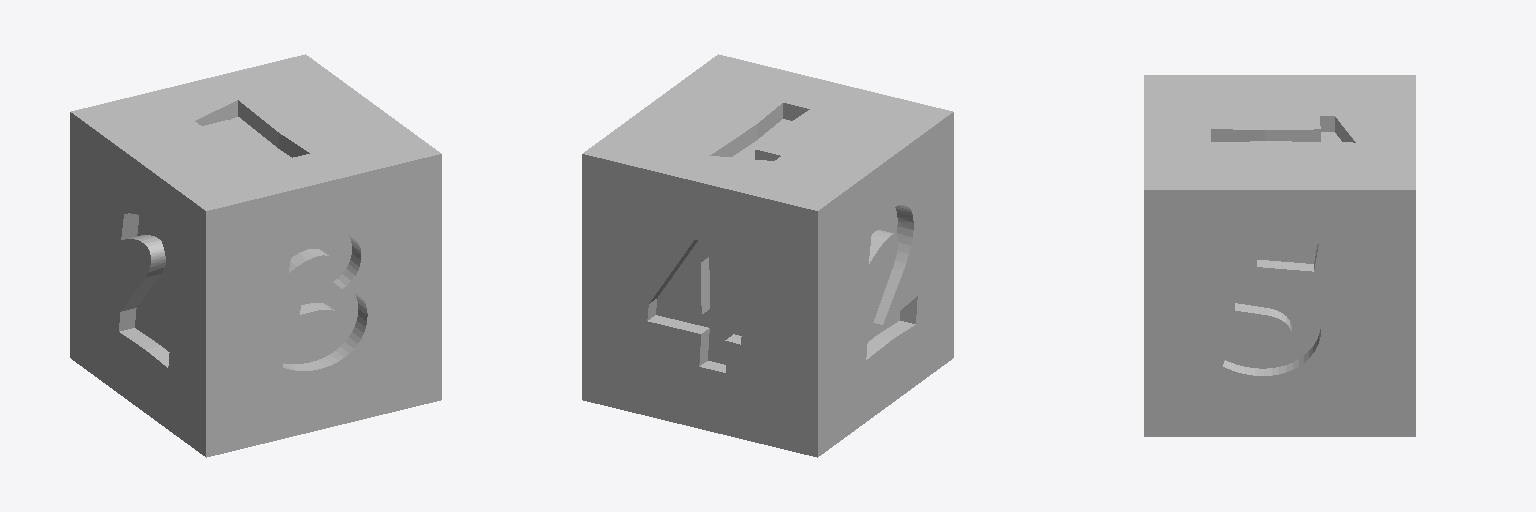
The model's file is Dice6.obj.
3 views of the same model, side by side, from view 1: azimuth 30°, elevation 25°; view 2: azimuth 150°, elevation 25°; view 3: azimuth 270°, elevation 25° (orthographic).
Parts seen in each view (by area): view 1: D6_16mm; view 2: D6_16mm; view 3: D6_16mm.
Part boxes in pixels (left/top/right/bottom): D6_16mm: left=70, top=54, right=441, bottom=457; D6_16mm: left=582, top=54, right=953, bottom=457; D6_16mm: left=1144, top=75, right=1415, bottom=436.
Bounding box in the file's own units: 1.6 × 1.6 × 1.6.